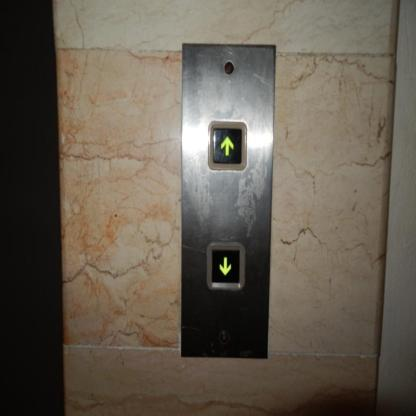down: (206, 241, 245, 289)
up: (208, 120, 247, 170)
